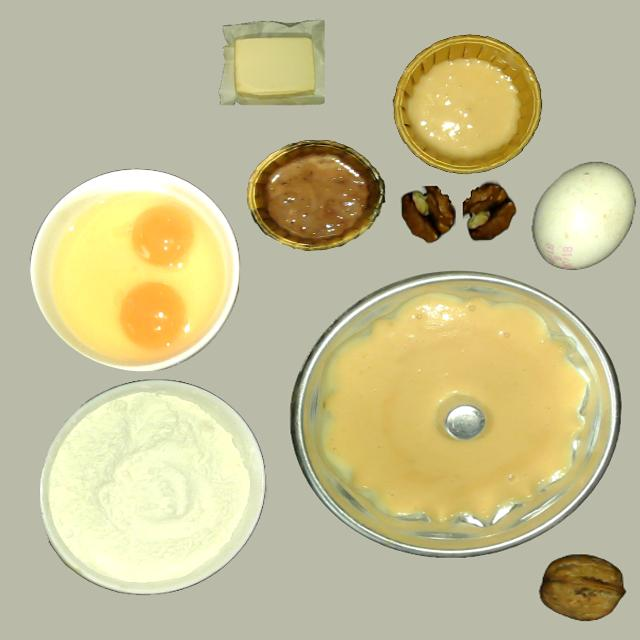Egg: (126, 196, 203, 274), (119, 282, 188, 349)
Flour: (38, 379, 262, 595)
Walnut: (534, 548, 633, 626)
